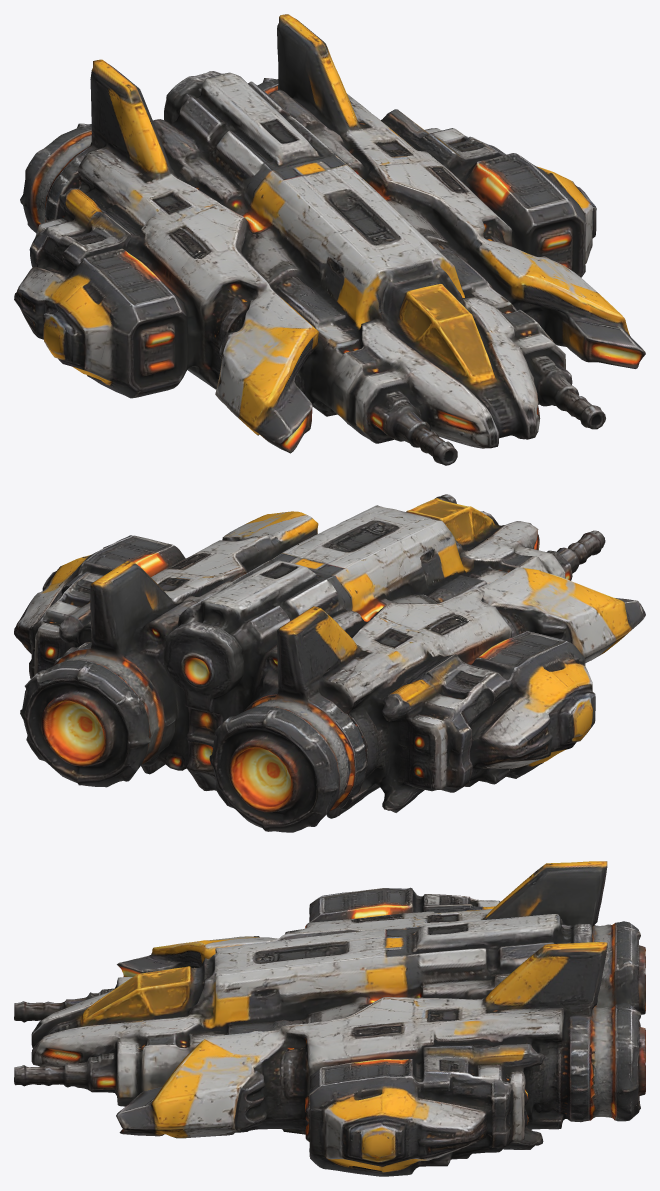
The model's file is titan.glb.
3 renders of one model, top to bottom at view 1: azimuth 30°, elevation 25°; view 2: azimuth 150°, elevation 25°; view 3: azimuth 270°, elevation 25°, orthographic. The views are drawn at different scales.
Parts seen in each view (by area): view 1: input; view 2: input; view 3: input.
Boxes of the visible parts, <box> form: input: <box>14,14,645,465</box>; input: <box>14,494,645,832</box>; input: <box>14,861,645,1176</box>.
Size of the model in its own units: 1.04 by 0.4296 by 1.2.
Materials: 1 (1 with a texture image).
